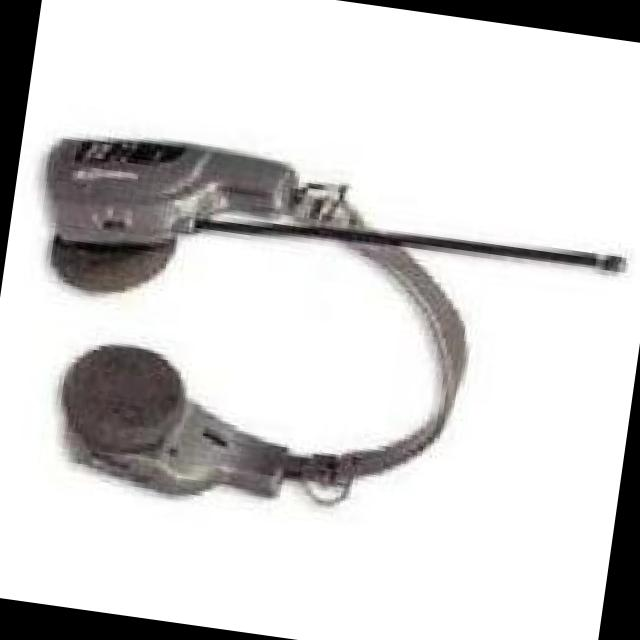kulaklik: (0, 25, 640, 591)
